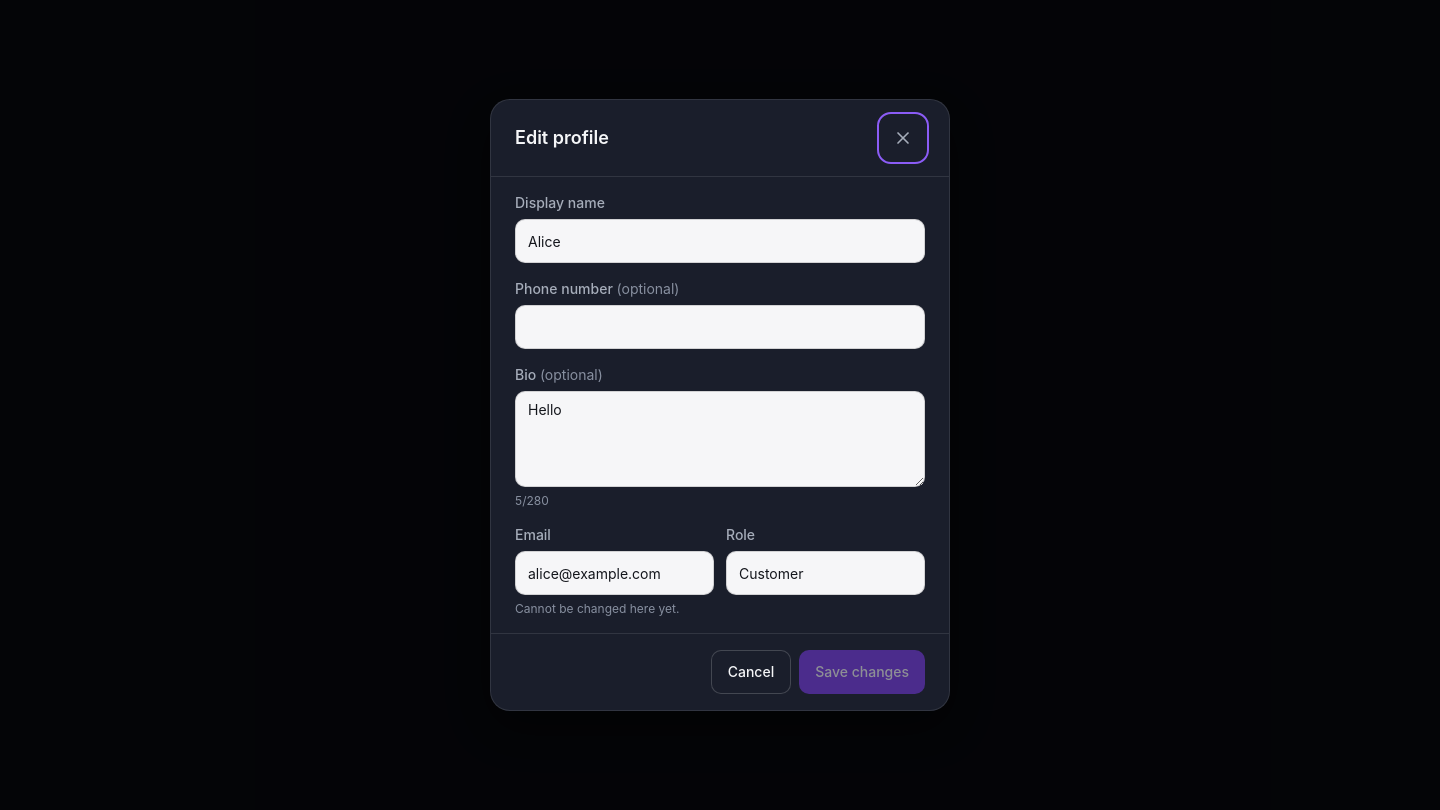
Test: EditProfileModal › shows a live bio character count
The width and height of the screenshot is (1440, 810).
Expected: the text "5/280" is shown, [515,493,549,508]
Step 1. Replace the text in the text box labelled "Bio (optional)" with "Hello world" → (720, 439), box [515,391,925,487]
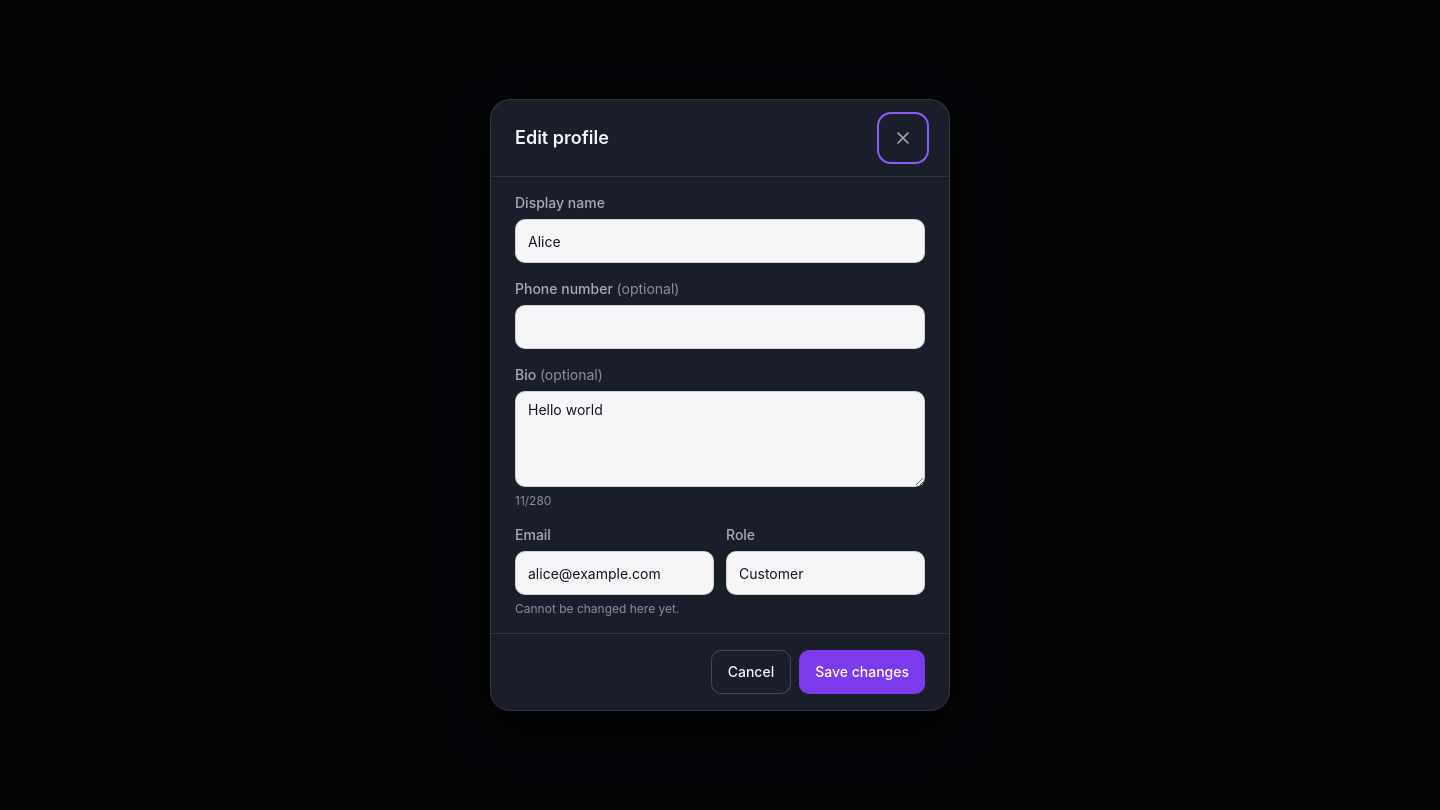
Now the text "11/280" is shown, box [515,493,551,508]
